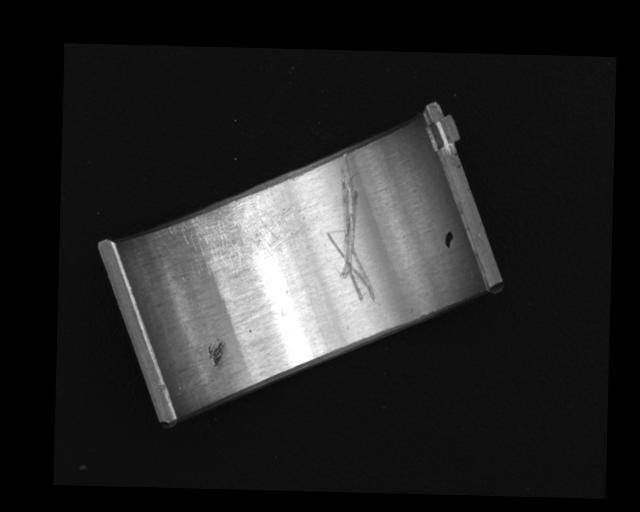blot: (444, 231, 454, 250)
bruise: (205, 339, 226, 368)
nick: (325, 150, 380, 303)
scratch: (164, 188, 292, 282)
